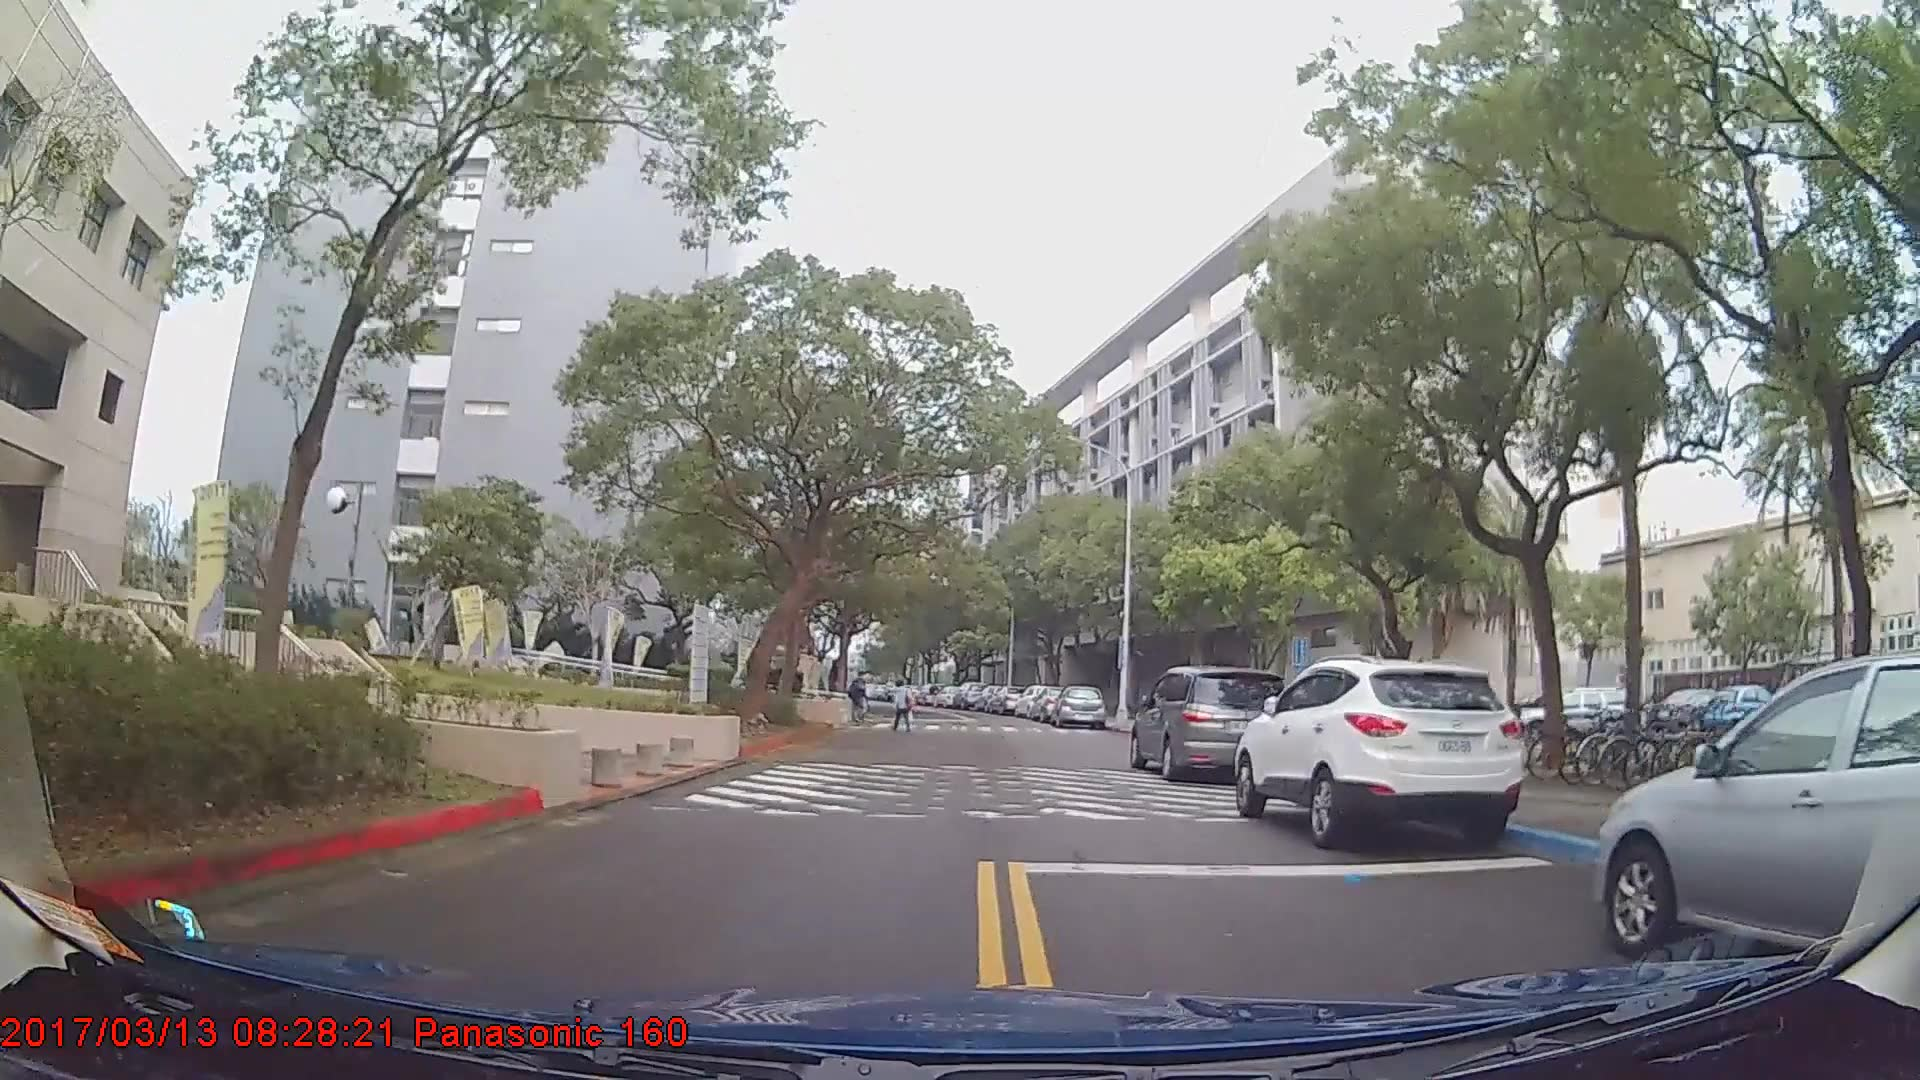pedestrian: (886, 679, 913, 735), (850, 673, 871, 725)
vehicle: (1594, 649, 1920, 980), (1234, 655, 1527, 849), (1128, 664, 1295, 782), (1496, 684, 1628, 746), (1648, 686, 1734, 733), (1703, 683, 1773, 733), (1053, 680, 1106, 731), (949, 679, 985, 709)
